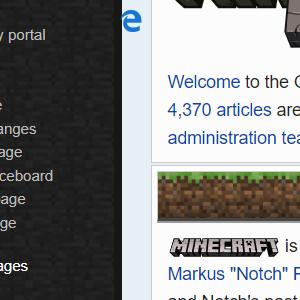edge: (121, 9, 142, 32)
